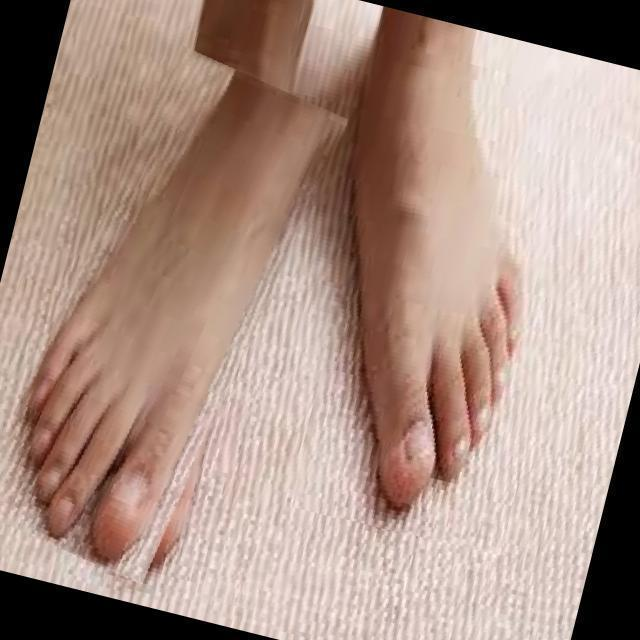No_Shoes: (0, 51, 335, 542), (356, 56, 556, 590)
